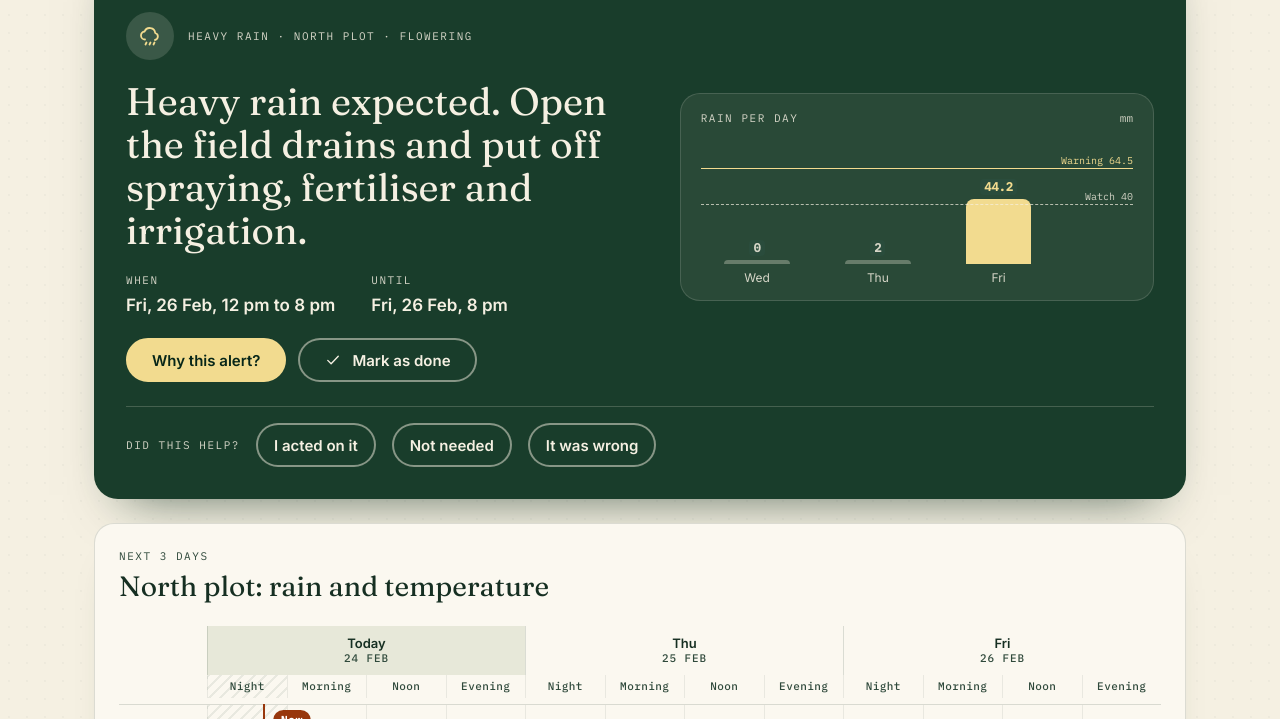
Weather & Alerts states › a three-day-ahead alert explains why it is only a Watch
(page scrolled)
expect the 1st heading is shown: met, box [126,80,648,252]
expect the text "least certain" is not shown: met
Step 1. Click the button "Why this alert?" → (206, 360), box [126,338,286,382]
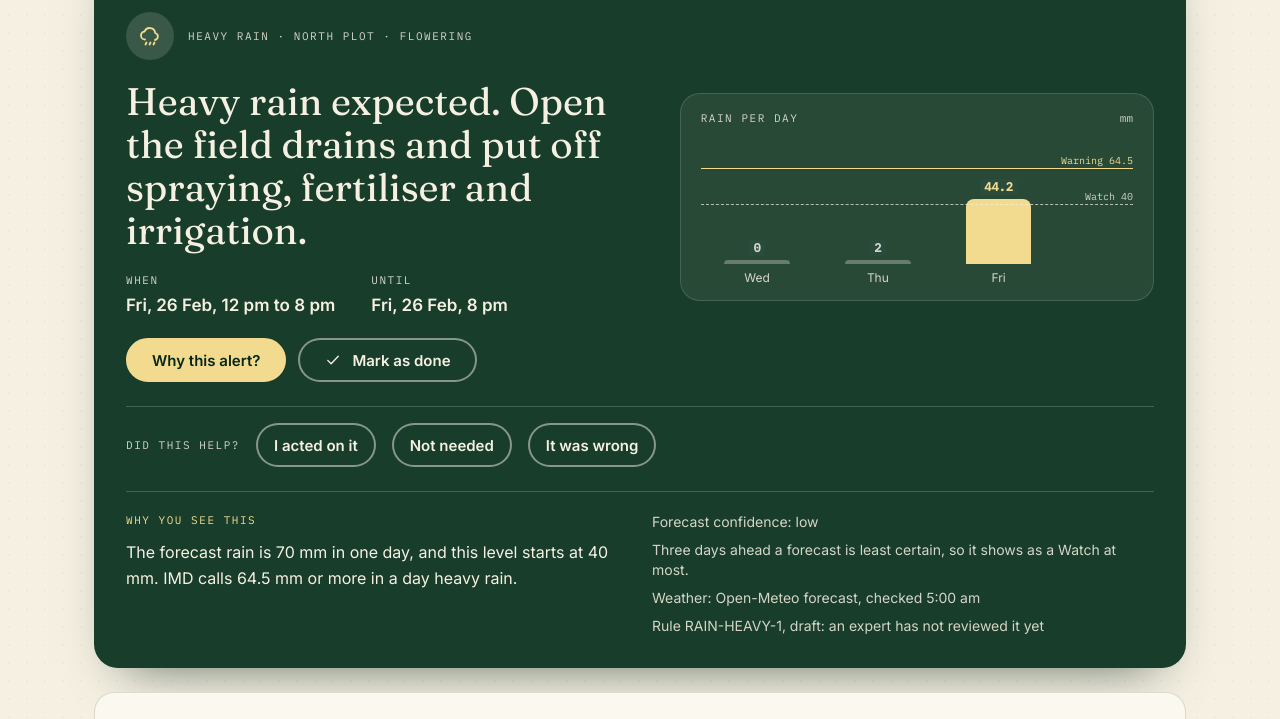
expect the list item "Forecast confidence: low" is shown: met, box [652,513,819,530]
expect the list item "least certain, so it shows as a Watch at most" is shown: met, box [652,541,1116,578]
